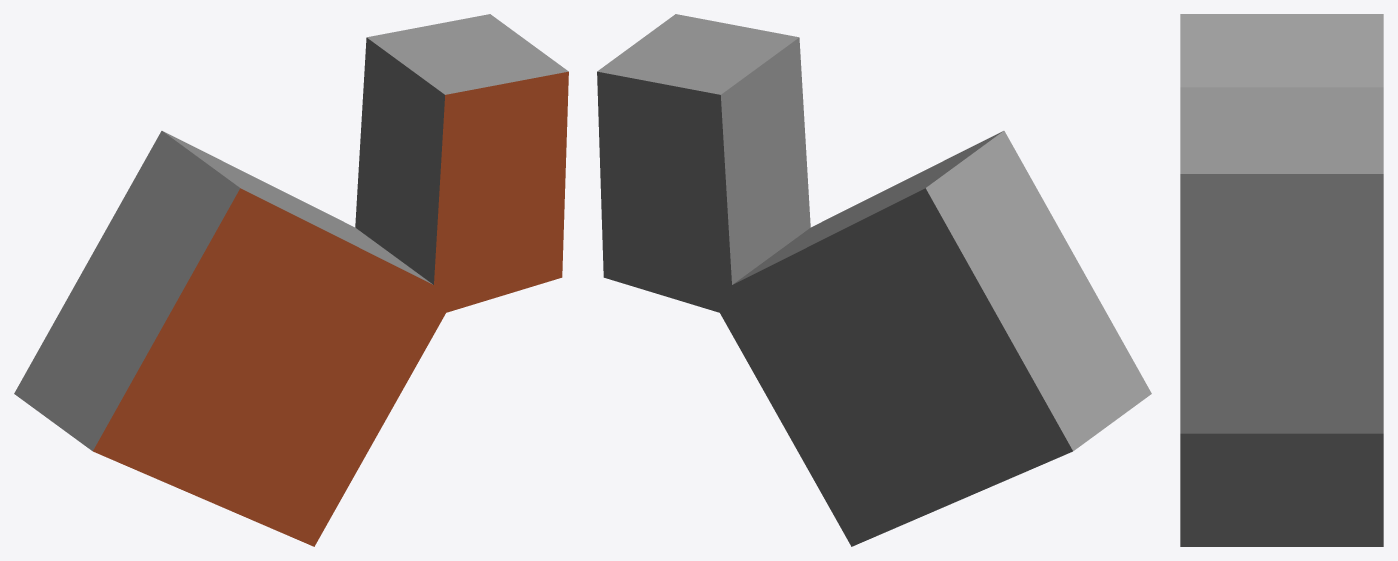
Rendered from construction_1105_assumed_A_Casa_h6m.obj.
The picture shows the model from 3 angles, left to right: view 1: azimuth 30°, elevation 25°; view 2: azimuth 150°, elevation 25°; view 3: azimuth 270°, elevation 25°; orthographic projection. The views are drawn at different scales.
Parts seen in each view (by area): view 1: construction_1105_assumed_A_Casa; view 2: construction_1105_assumed_A_Casa; view 3: construction_1105_assumed_A_Casa.
Part boxes in pixels (left/top/right/bottom): construction_1105_assumed_A_Casa: left=14, top=14, right=568, bottom=546; construction_1105_assumed_A_Casa: left=597, top=14, right=1151, bottom=546; construction_1105_assumed_A_Casa: left=1180, top=14, right=1383, bottom=546.
Size of the model in its own units: 20.97 by 17.68 by 6.
